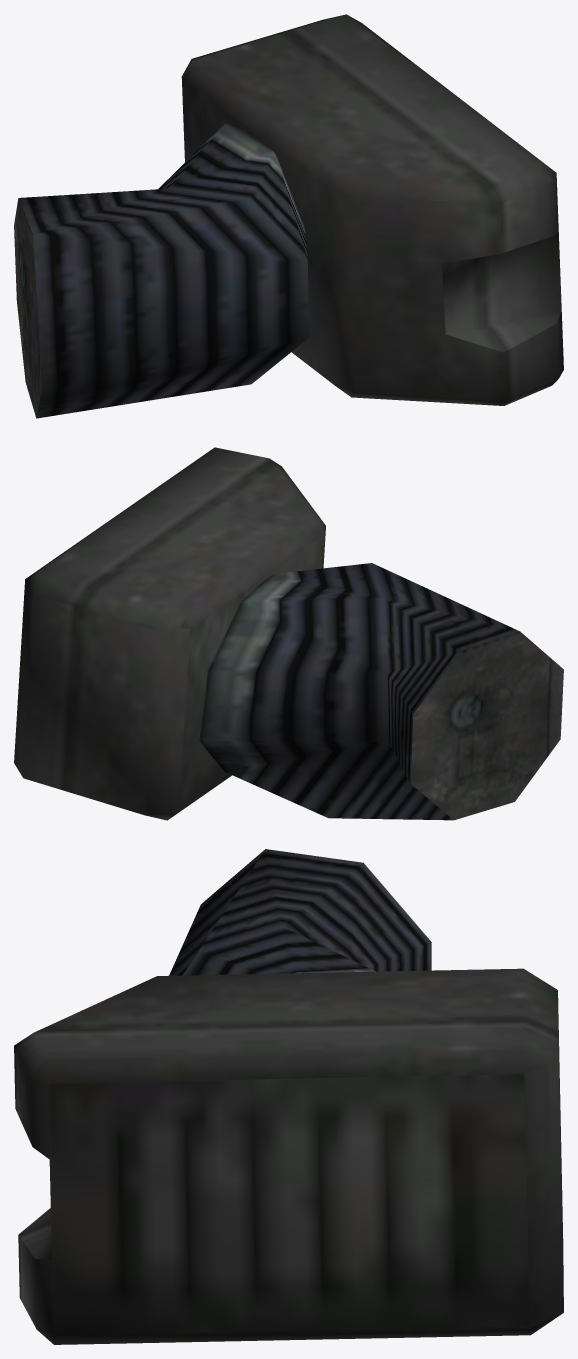
Rendered from poi_powerdroidleg_l0.fbx.
3 renders of one model, top to bottom at view 1: azimuth 30°, elevation 25°; view 2: azimuth 150°, elevation 25°; view 3: azimuth 270°, elevation 25°, orthographic. The views are drawn at different scales.
Parts seen in each view (by area): view 1: mesh_node; view 2: mesh_node; view 3: mesh_node.
Part boxes in pixels (x1,y1,x2,y2): mesh_node: (14, 14, 563, 418); mesh_node: (14, 447, 563, 820); mesh_node: (14, 849, 563, 1344).
Bounding box in the file's own units: 0.3874 × 0.1913 × 0.3233.
